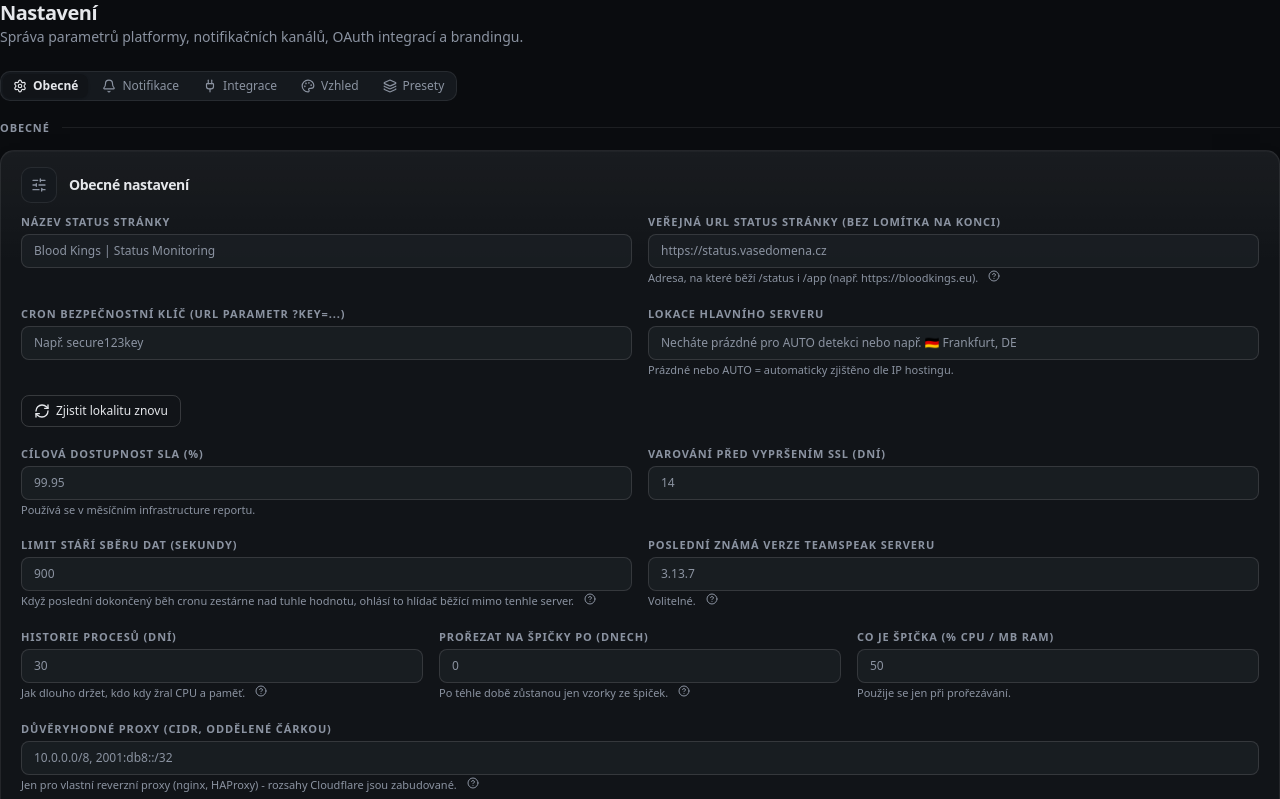
Nastavení: upozornění z agentů (W1-D1) › štítek říká, co všechno přepínač vypíná, nejen limity CPU/RAM/HDD
What coordinates should you click on to do the following:
click the button "Notifikace"
I would click on:
 (141, 86)
Its box is [92,74,189,98].
(page scrolled)
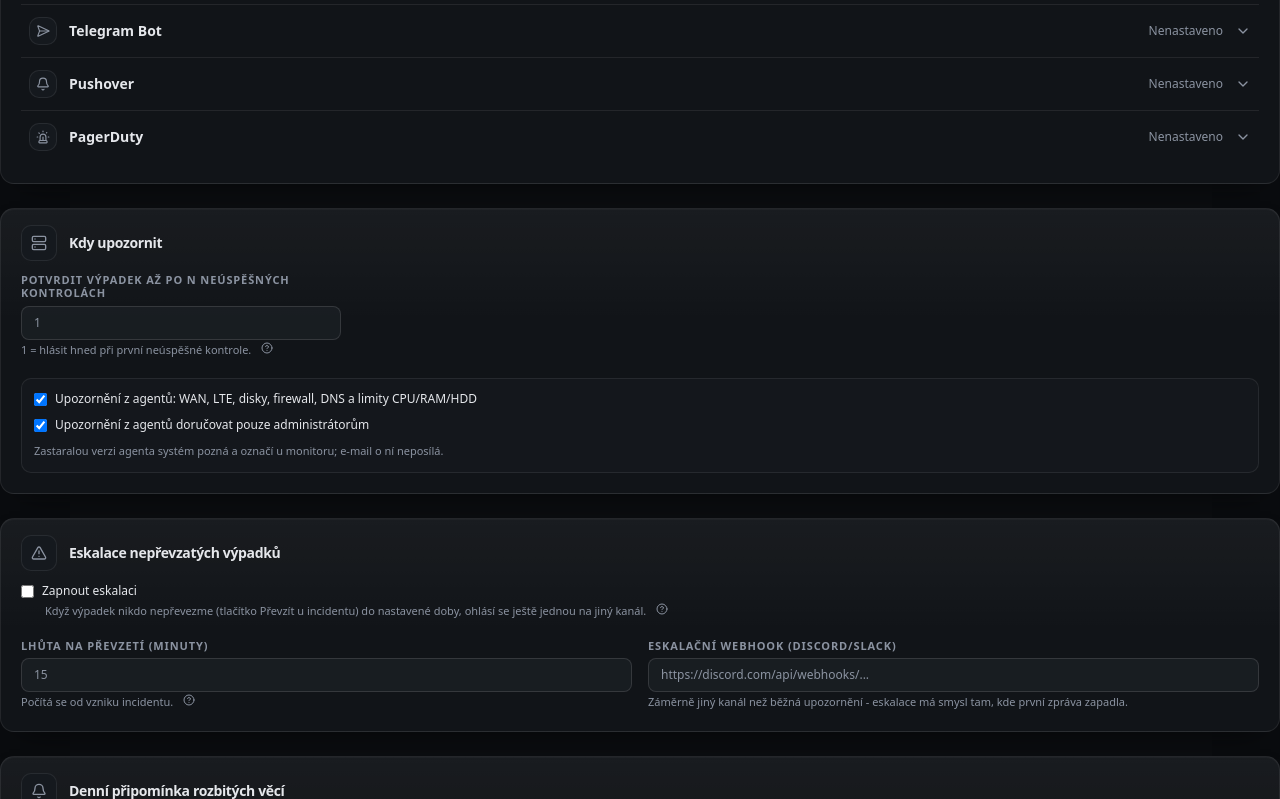
Expected: the text "Upozornění z agentů: WAN, LTE, disky, firewall, DNS a limity CPU/RAM/HDD" is shown, [55,391,477,407]
